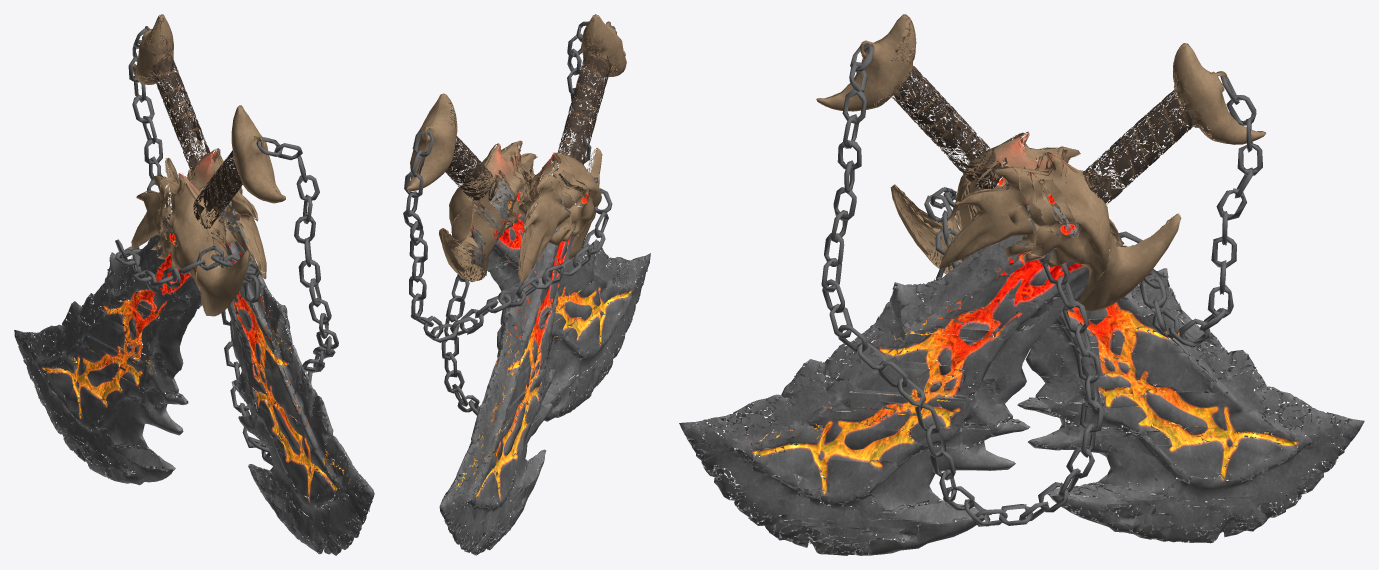
The model's file is a4-blade-of-chaos.glb.
The picture shows the model from 3 angles, left to right: view 1: azimuth 30°, elevation 25°; view 2: azimuth 150°, elevation 25°; view 3: azimuth 270°, elevation 25°; orthographic projection. The views are drawn at different scales.
Visible parts, largest first — view 1: blade1_blade1_0.002, blade1_blade1_0, blade1_blade1_0.001, blade2_blade2_0.003, cross1_cross1_0, blade2_blade2_0.002, blade2_blade2_0.001, blade2_blade2_0, chain_chain_0.001, chain_chain_0, Apple1_Apple1_0, cross2_cross2_0.001 (+15 smaller); view 2: blade1_blade1_0, chain_chain_0, blade1_blade1_0.002, cross1_cross1_0, blade2_blade2_0.001, blade1_blade1_0.001, blade2_blade2_0.003, cross2_cross2_0, blade2_blade2_0.002, cross2_cross2_0.001, blade2_blade2_0, cross2_cross2_0.002 (+17 smaller); view 3: blade2_blade2_0, blade2_blade2_0.002, blade2_blade2_0.001, blade1_blade1_0.002, blade1_blade1_0.003, cross2_cross2_0, blade1_blade1_0.001, chain_chain_0, blade1_blade1_0, chain_chain_0.001, blade2_blade2_0.003, Apple2_Apple2_0 (+15 smaller).
Part boxes in pixels (x1=…): blade1_blade1_0.002: x1=56, y1=219, x2=186, y2=485; blade1_blade1_0: x1=14, y1=212, x2=201, y2=475; blade1_blade1_0.001: x1=59, y1=218, x2=205, y2=429; blade2_blade2_0.003: x1=219, y1=196, x2=373, y2=553; cross1_cross1_0: x1=131, y1=173, x2=248, y2=316; blade2_blade2_0.002: x1=232, y1=212, x2=346, y2=555; blade2_blade2_0.001: x1=206, y1=202, x2=338, y2=506; blade2_blade2_0: x1=210, y1=192, x2=374, y2=555; chain_chain_0.001: x1=178, y1=137, x2=338, y2=407; chain_chain_0: x1=115, y1=28, x2=312, y2=465; Apple1_Apple1_0: x1=231, y1=105, x2=285, y2=203; cross2_cross2_0.001: x1=165, y1=150, x2=264, y2=277; blade1_blade1_0: x1=439, y1=195, x2=569, y2=555; chain_chain_0: x1=403, y1=130, x2=608, y2=415; blade1_blade1_0.002: x1=465, y1=290, x2=556, y2=555; cross1_cross1_0: x1=520, y1=148, x2=602, y2=283; blade2_blade2_0.001: x1=471, y1=180, x2=632, y2=358; blade1_blade1_0.001: x1=451, y1=202, x2=575, y2=502; blade2_blade2_0.003: x1=472, y1=179, x2=647, y2=416; cross2_cross2_0: x1=439, y1=140, x2=540, y2=282; blade2_blade2_0.002: x1=513, y1=191, x2=619, y2=421; cross2_cross2_0.001: x1=442, y1=141, x2=536, y2=280; blade2_blade2_0: x1=477, y1=178, x2=650, y2=394; cross2_cross2_0.002: x1=442, y1=141, x2=541, y2=280; blade2_blade2_0: x1=679, y1=202, x2=1080, y2=545; blade2_blade2_0.002: x1=768, y1=250, x2=1029, y2=555; blade2_blade2_0.001: x1=743, y1=208, x2=1103, y2=503; blade1_blade1_0.002: x1=1018, y1=273, x2=1275, y2=543; blade1_blade1_0.003: x1=1017, y1=197, x2=1353, y2=542; cross2_cross2_0: x1=939, y1=154, x2=1180, y2=311; blade1_blade1_0.001: x1=961, y1=245, x2=1300, y2=481; chain_chain_0: x1=915, y1=76, x2=1262, y2=526; blade1_blade1_0: x1=1006, y1=184, x2=1364, y2=530; chain_chain_0.001: x1=821, y1=44, x2=959, y2=458; blade2_blade2_0.003: x1=686, y1=209, x2=1080, y2=555; Apple2_Apple2_0: x1=1173, y1=43, x2=1266, y2=144.
Size of the model in its own units: 0.2747 by 0.8865 by 1.02.
Materials: 9 (9 with a texture image).
